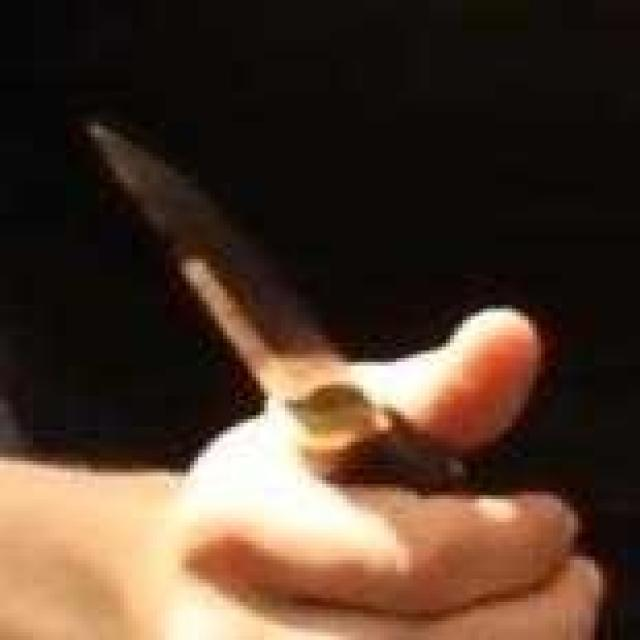knife: (40, 66, 501, 577)
